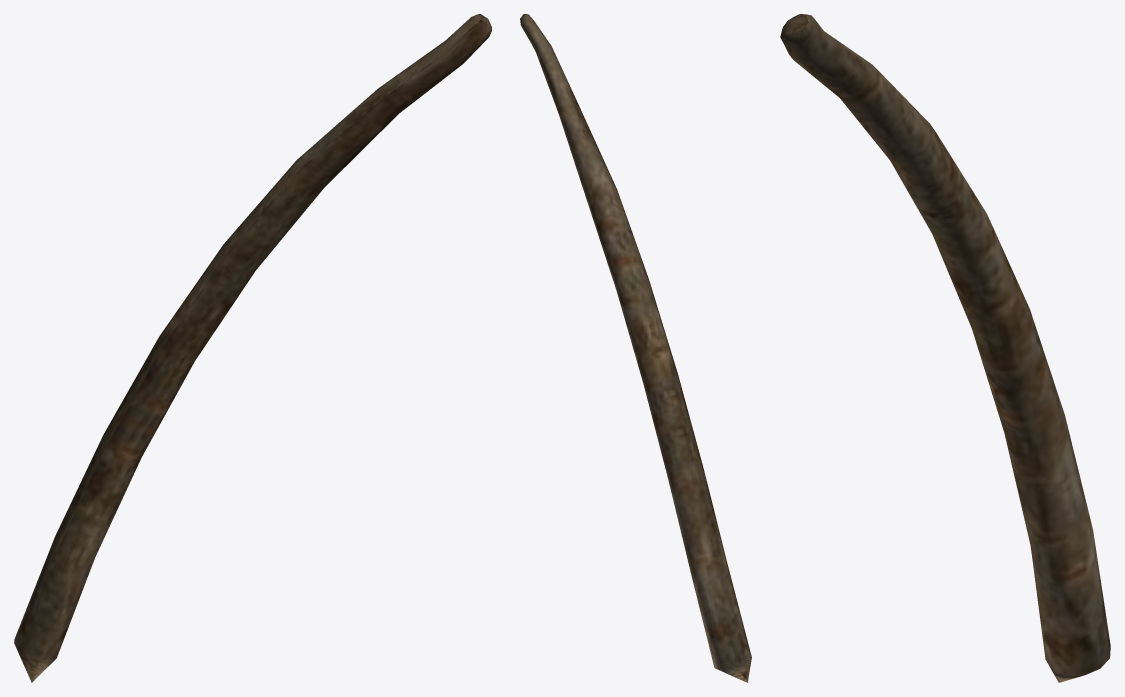
3 renders of one model, left to right at view 1: azimuth 30°, elevation 25°; view 2: azimuth 150°, elevation 25°; view 3: azimuth 270°, elevation 25°, orthographic. The views are drawn at different scales.
Parts seen in each view (by area): view 1: G-Line003.015; view 2: G-Line003.015; view 3: G-Line003.015.
Part boxes in pixels (bbox=[...]): G-Line003.015: bbox=[14, 14, 491, 682]; G-Line003.015: bbox=[520, 14, 751, 682]; G-Line003.015: bbox=[780, 14, 1110, 682].
Size of the model in its own units: 0.6631 by 1.1 by 0.3599.
1 material, 1 textured.
